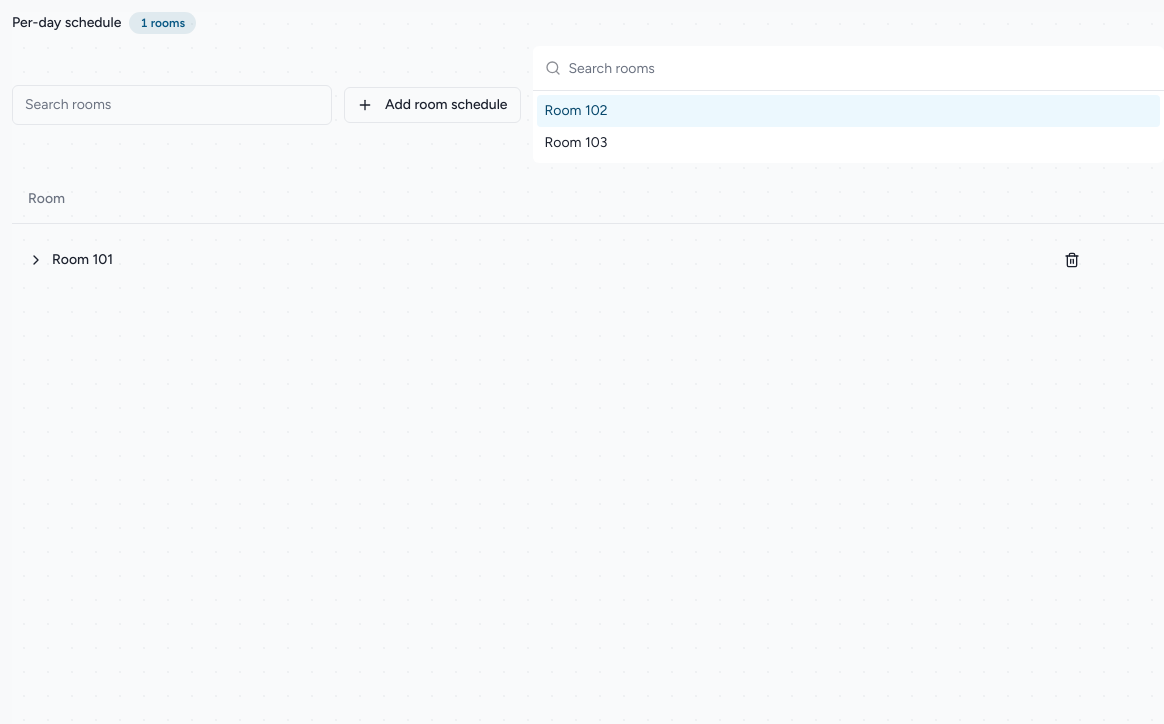
it: WeeklyScheduleField › resolves the default from the room's zone_overrides value over the hotel default
The width and height of the screenshot is (1164, 724).
Click the button with aria-label "Expand Room 101": click(71, 260) [28,250,113,270]
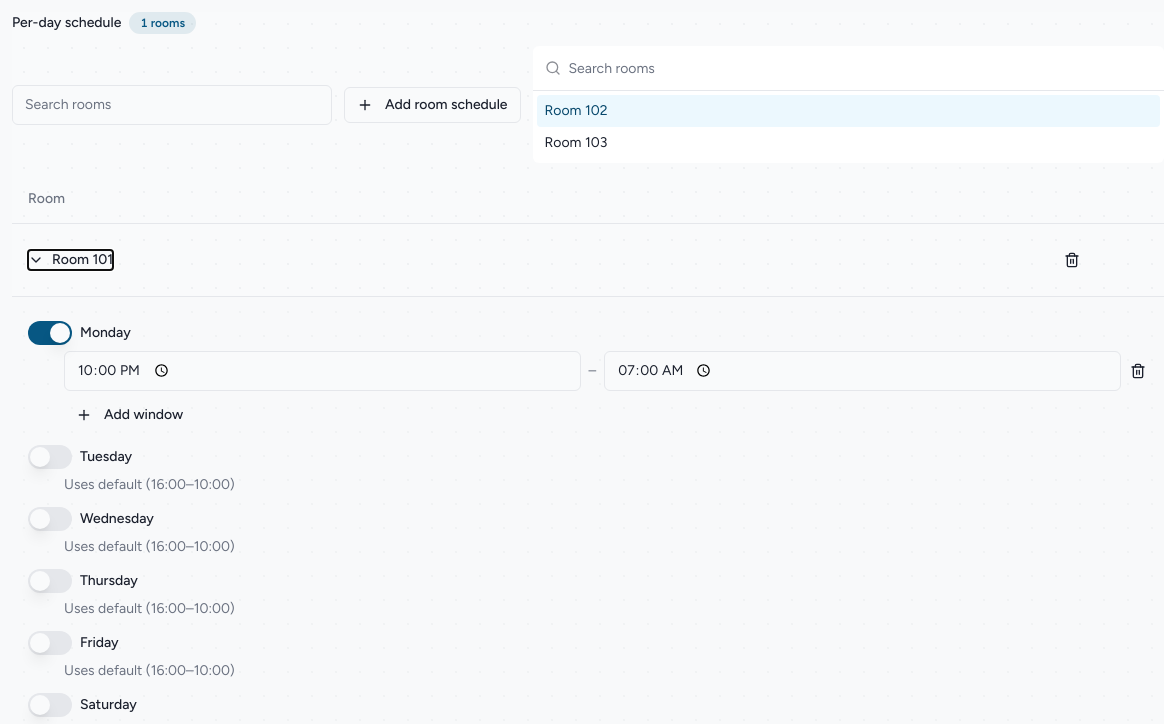
Result: the text "Uses default (16:00–10:00)" below "Tuesday" is shown at [64,476,235,492]
